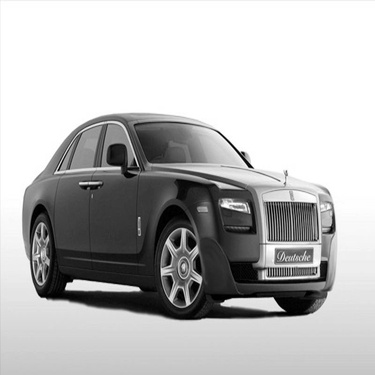car: (16, 102, 340, 320)
